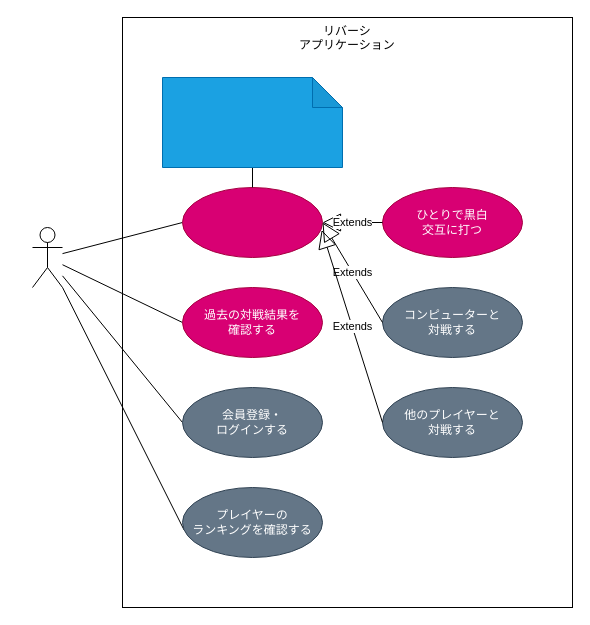
This 590x625 diagram has some shape labels left out. Here are the shapes that lost their labels. From the top down, the centre of each, then its label:
[252,122]: ・対戦を開始する ・盤面を見る ・石を打つ ・勝敗を確認する
[252,222]: 対戦する
[47,257]: プレイヤー
